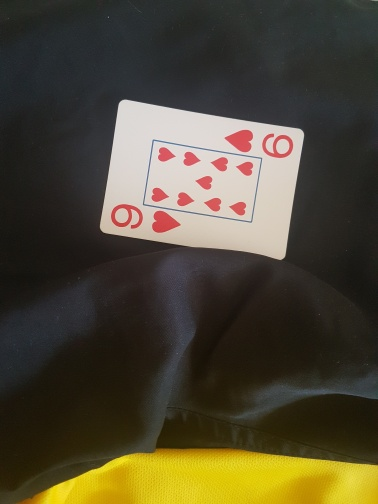nine: (98, 98, 306, 259)
